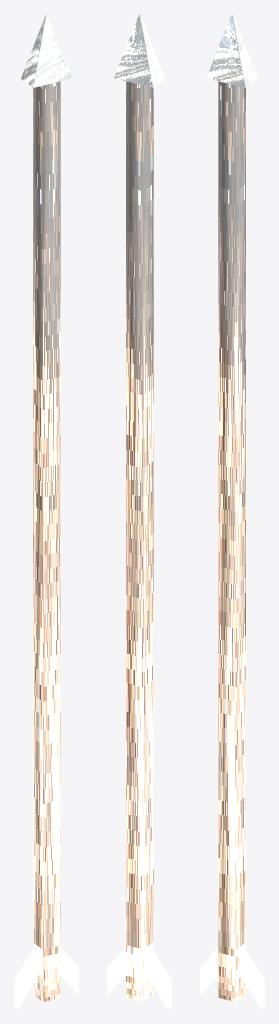
Rendered from Arrow.glb.
3 views of the same model, side by side, from view 1: azimuth 30°, elevation 25°; view 2: azimuth 150°, elevation 25°; view 3: azimuth 330°, elevation 25° (orthographic).
Parts seen in each view (by area): view 1: Arrow; view 2: Arrow; view 3: Arrow.
Boxes of the visible parts, bbox=[...] form: Arrow: bbox=[14, 14, 78, 1009]; Arrow: bbox=[107, 14, 171, 1009]; Arrow: bbox=[200, 14, 264, 1009].
Bounding box in the file's own units: 0.14 × 2.15 × 0.0493.
